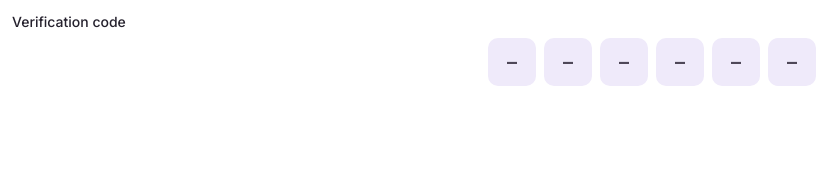
CodeInput › advances focus as digits are typed and ignores letters
The image size is (833, 172).
Step 1. Click the 1st field with placeholder "–" → [512, 62], box x1=488 y1=38 x2=536 y2=86
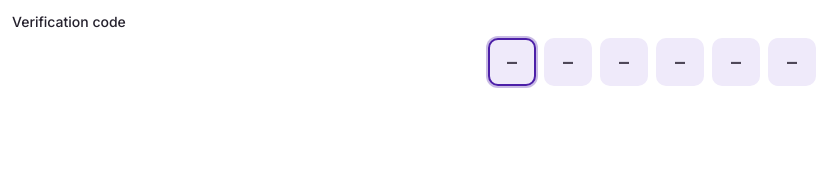
Step 2. Type keys "7a8"
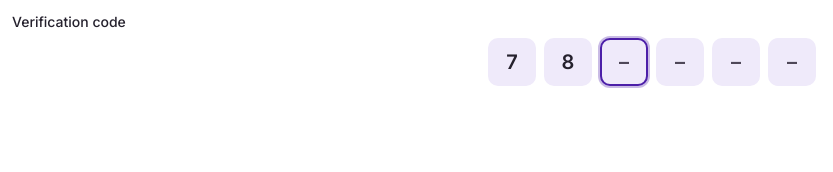
Check: the field named "Digit 1 of 6" holds "7", box x1=488 y1=38 x2=536 y2=86
Check: the field named "Digit 2 of 6" holds "8", box x1=544 y1=38 x2=592 y2=86
